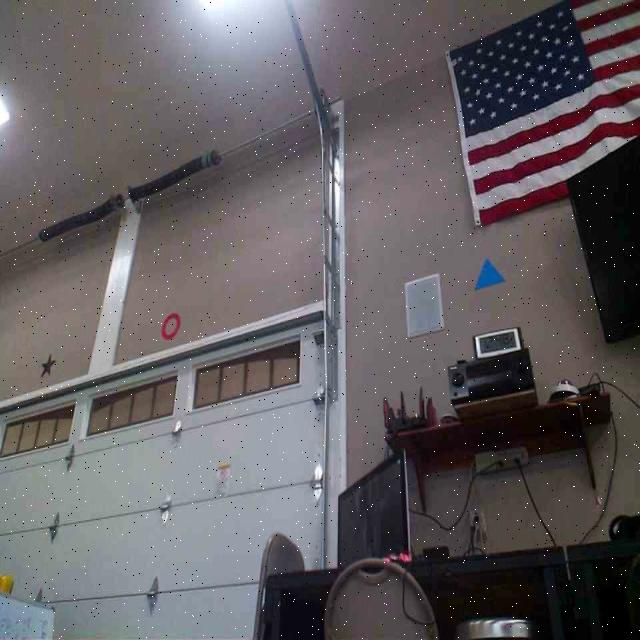ring_red: (160, 310, 182, 340)
star_black: (38, 351, 55, 379)
triangle_blue: (474, 258, 505, 290)
